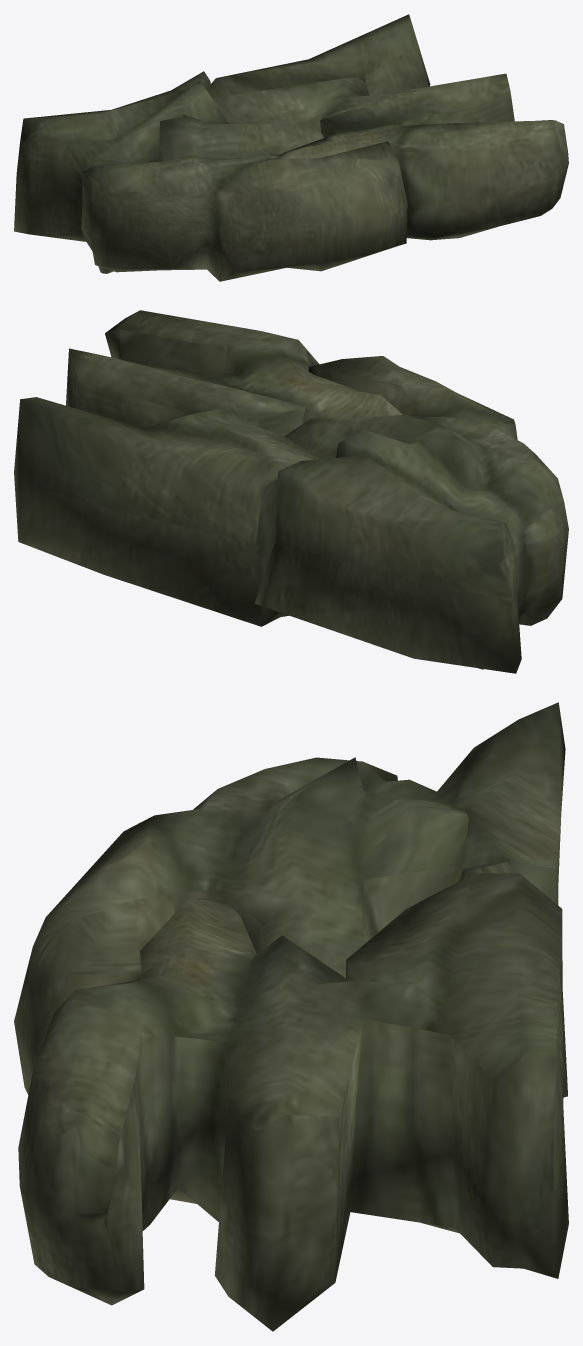
The model's file is military_sandbag_wet_endsection_left.glb.
3 views of the same model, one above another, from view 1: azimuth 30°, elevation 25°; view 2: azimuth 150°, elevation 25°; view 3: azimuth 270°, elevation 25° (orthographic). The views are drawn at different scales.
Size of the model in its own units: 60.44 by 21.85 by 33.4.
Materials: 1 (1 with a texture image).
